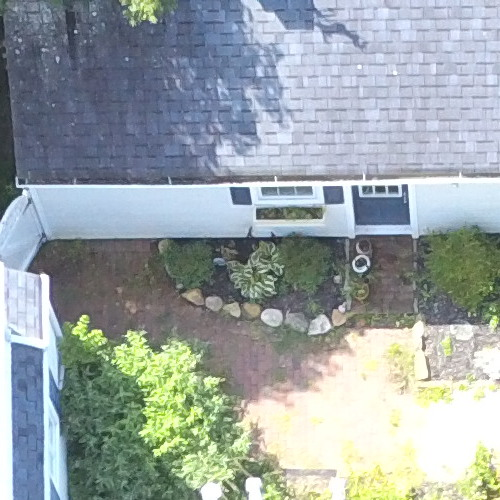flower pot: (350, 273, 376, 305), (351, 252, 375, 276), (349, 233, 371, 254)
